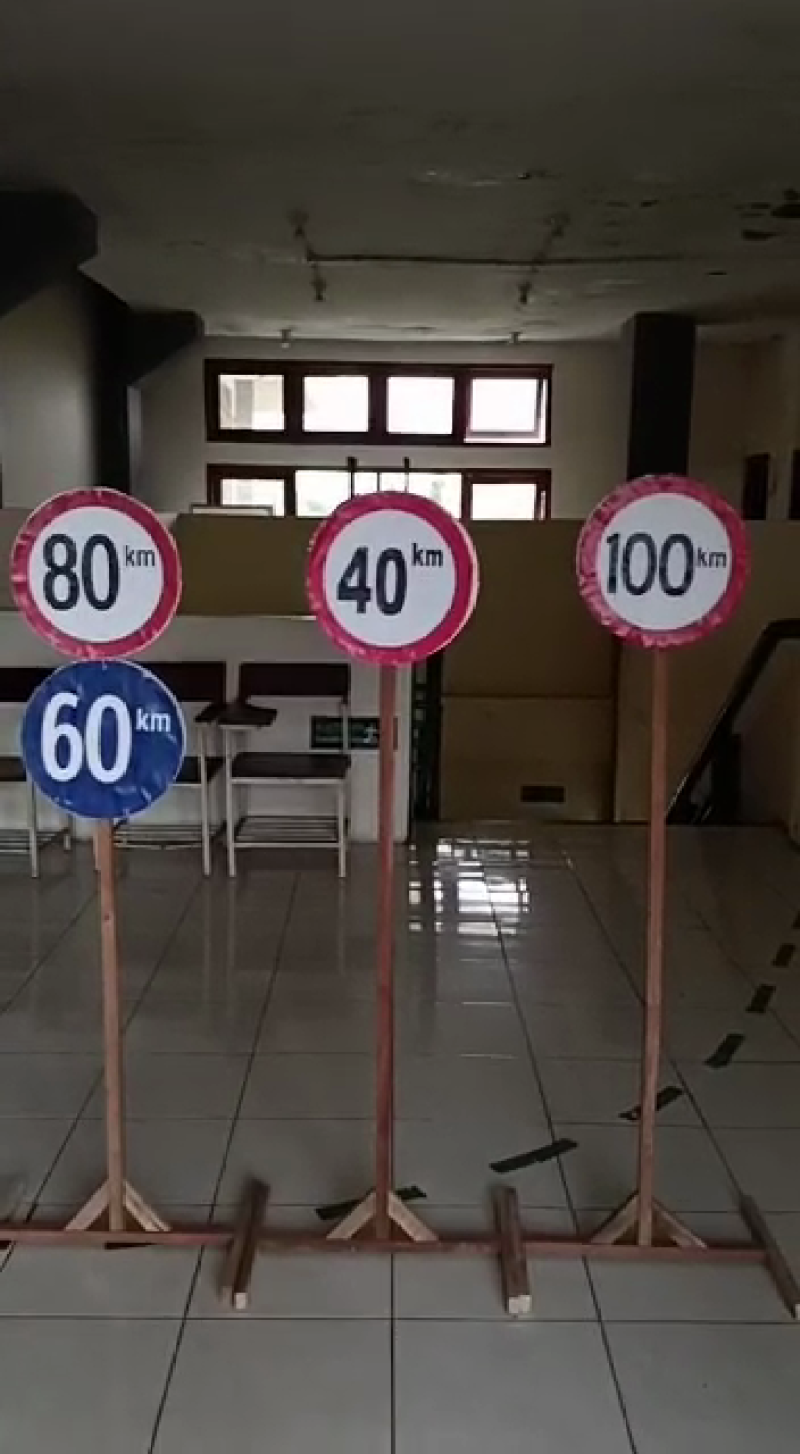batas maksimal 100kmperjam: (574, 470, 755, 659)
batas maksimal 40kmperjam: (296, 481, 489, 674)
batas maksimal 80kmperjam minimal 60kmperjam: (1, 479, 187, 840)
